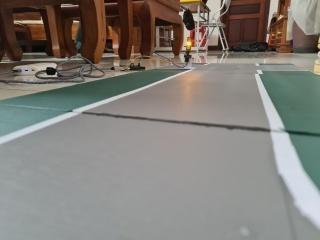yellow: (183, 32, 196, 56)
